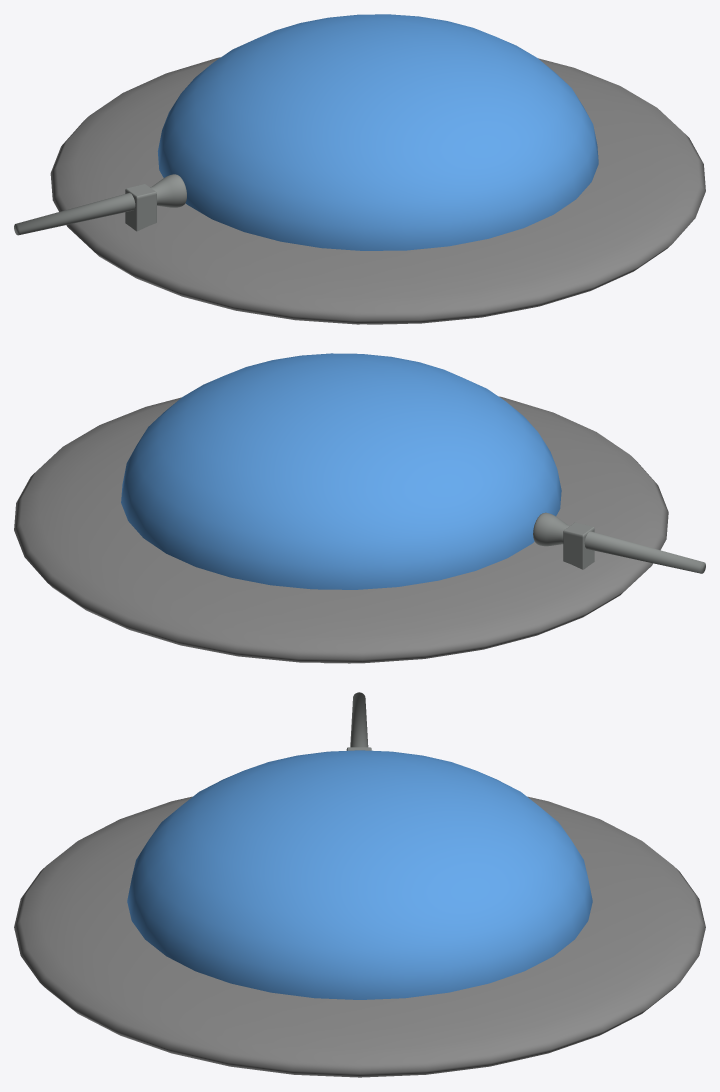
The picture shows the model from 3 angles, top to bottom: view 1: azimuth 30°, elevation 25°; view 2: azimuth 150°, elevation 25°; view 3: azimuth 270°, elevation 25°; orthographic projection. The views are drawn at different scales.
Parts seen in each view (by area): view 1: Sphere.001, Cylinder, Cube.001; view 2: Sphere.001, Cylinder, Cube.001; view 3: Sphere.001, Cylinder, Cube.001.
Boxes of the visible parts, box(x1,y1,x2,y2) form: Sphere.001: box(157, 14, 598, 250); Cylinder: box(50, 57, 705, 324); Cube.001: box(14, 174, 186, 235); Sphere.001: box(121, 353, 561, 589); Cylinder: box(14, 396, 668, 663); Cube.001: box(533, 512, 705, 573); Sphere.001: box(127, 750, 592, 999); Cylinder: box(14, 796, 705, 1077); Cube.001: box(346, 692, 371, 750).
Size of the model in its own units: 2045 by 666 by 1800.
